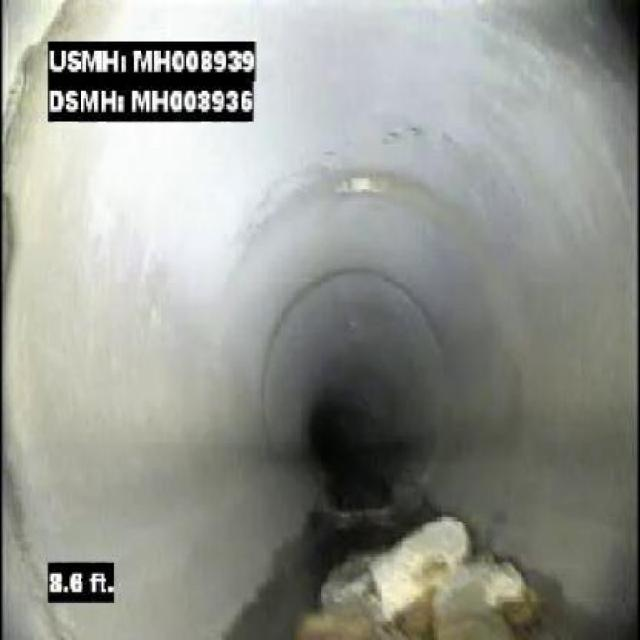Obstacle: (316, 512, 542, 632)
